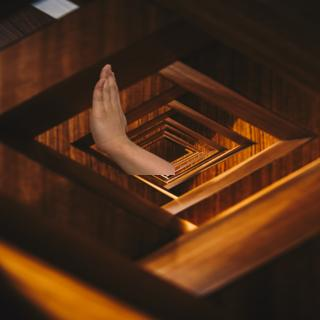RIGHT: (83, 60, 131, 155)
